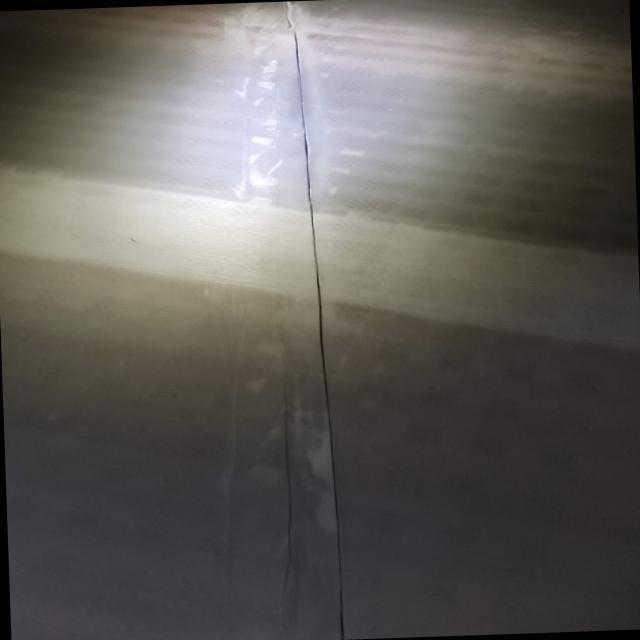Tear: (282, 0, 354, 640)
